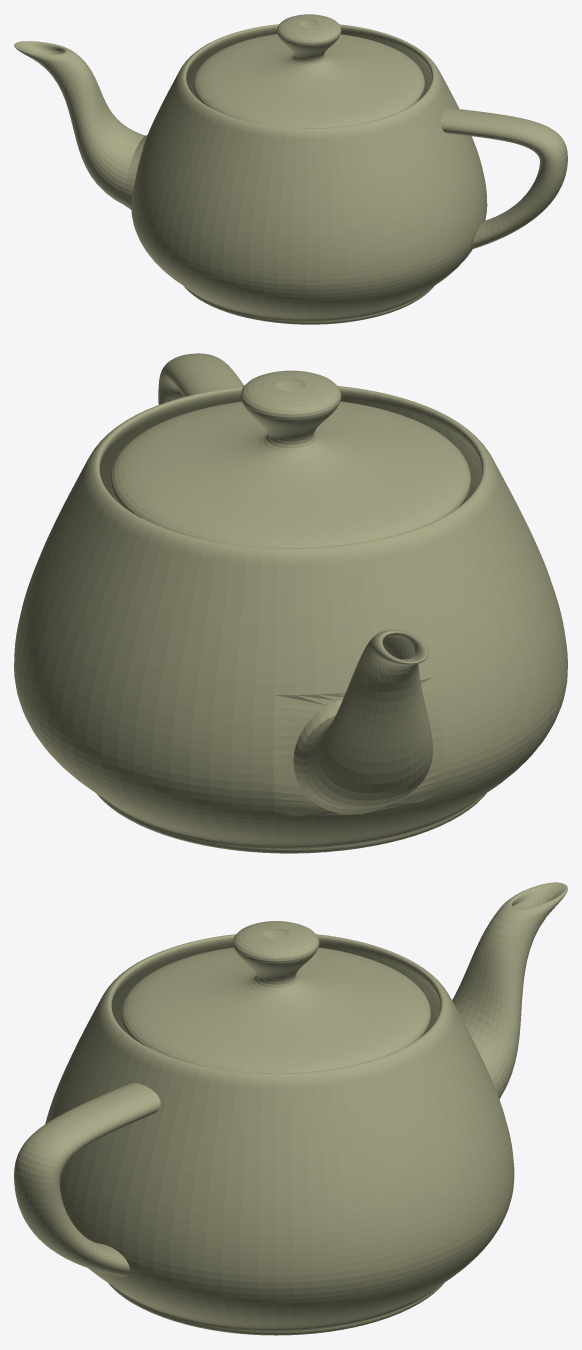
The model's file is teapot2.obj.
3 views of the same model, one above another, from view 1: azimuth 30°, elevation 25°; view 2: azimuth 150°, elevation 25°; view 3: azimuth 270°, elevation 25° (orthographic). The views are drawn at different scales.
Visible parts, largest first — view 1: Teapot; view 2: Teapot; view 3: Teapot.
Boxes of the visible parts, left/top/right/bottom form: Teapot: left=14, top=14, right=567, bottom=324; Teapot: left=14, top=353, right=567, bottom=853; Teapot: left=14, top=882, right=567, bottom=1335.
Size of the model in its own units: 5.89 by 3.97 by 5.89.
